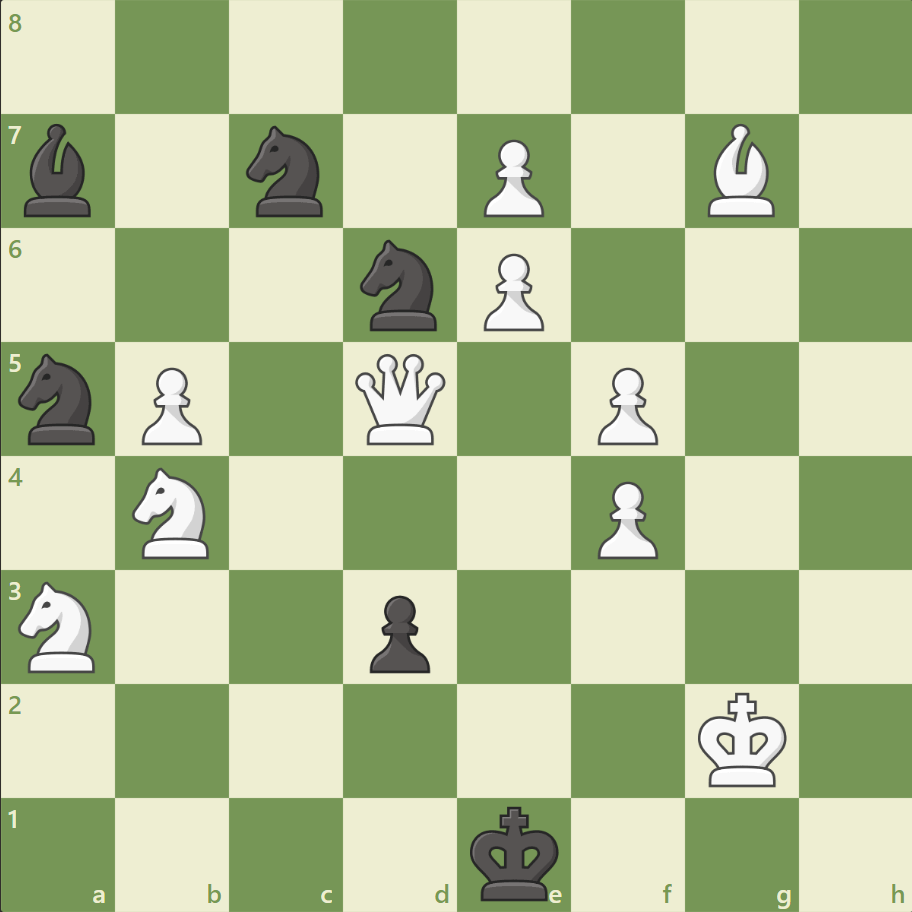B: (698, 120, 782, 222)
K: (692, 685, 792, 793)
N: (124, 461, 222, 564), (11, 575, 108, 677)
P: (474, 132, 549, 223), (474, 246, 549, 337), (133, 359, 208, 450), (588, 359, 662, 450), (588, 473, 662, 564)
Q: (351, 349, 450, 449)
b: (17, 120, 101, 222)
k: (465, 798, 565, 906)
n: (351, 234, 449, 337), (238, 121, 335, 223), (11, 348, 108, 450)
p: (361, 586, 435, 677)
